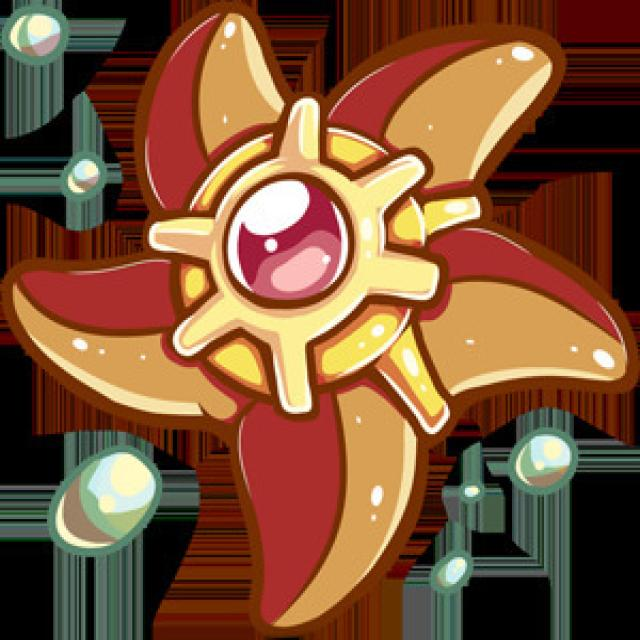Staryu: (16, 18, 612, 629)
